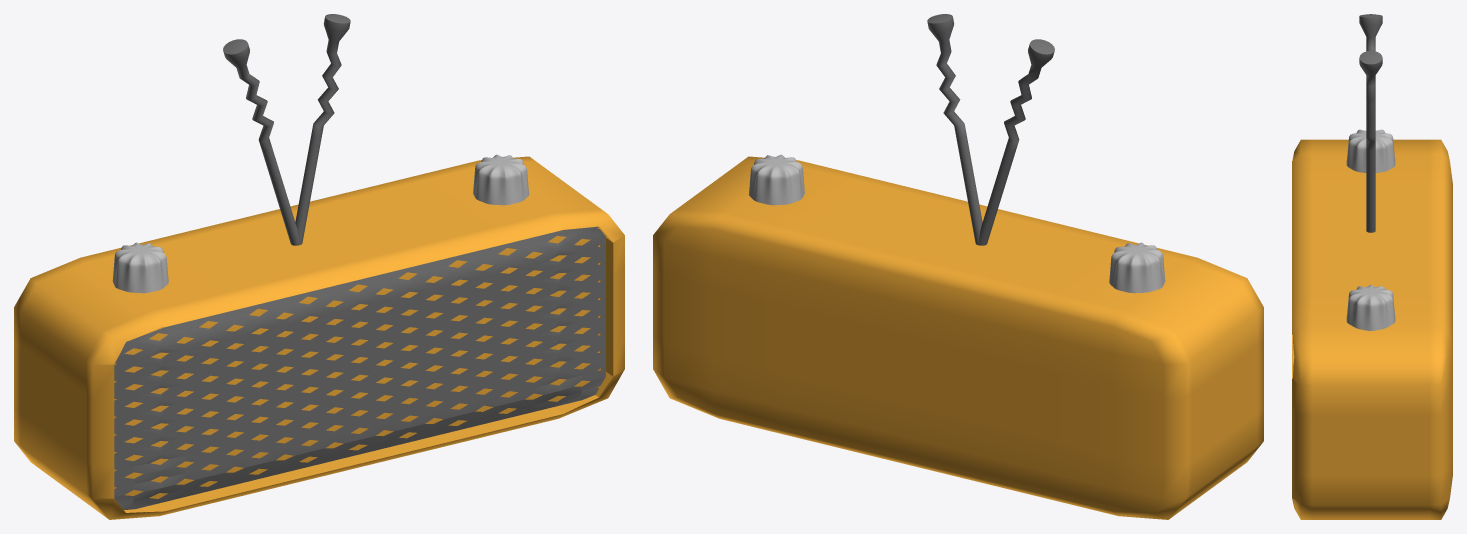
The model's file is WholeRadio.fbx.
The picture shows the model from 3 angles, left to right: view 1: azimuth 30°, elevation 25°; view 2: azimuth 150°, elevation 25°; view 3: azimuth 270°, elevation 25°; orthographic projection. The views are drawn at different scales.
Visible parts, largest first — view 1: RadioBase, WholeRadio, Antena1, Antena2, Volume, Volume1; view 2: RadioBase, Antena1, Antena2, Volume, Volume1; view 3: RadioBase, Antena1, Volume1, Volume, Antena2.
Boxes of the visible parts, x1,y1,x2,y2 form: RadioBase: [14, 156, 624, 519]; WholeRadio: [114, 226, 605, 509]; Antena1: [295, 14, 350, 245]; Antena2: [223, 39, 299, 245]; Volume: [112, 242, 168, 293]; Volume1: [473, 154, 529, 205]; RadioBase: [653, 156, 1263, 519]; Antena1: [927, 14, 982, 245]; Antena2: [978, 39, 1054, 245]; Volume: [1109, 242, 1165, 293]; Volume1: [748, 154, 804, 205]; RadioBase: [1292, 139, 1452, 519]; Antena1: [1359, 51, 1382, 232]; Volume1: [1346, 284, 1395, 330]; Volume: [1346, 129, 1395, 172]; Antena2: [1359, 14, 1382, 51].
Bounding box in the file's own units: 0.6298 × 0.4724 × 0.1854.
